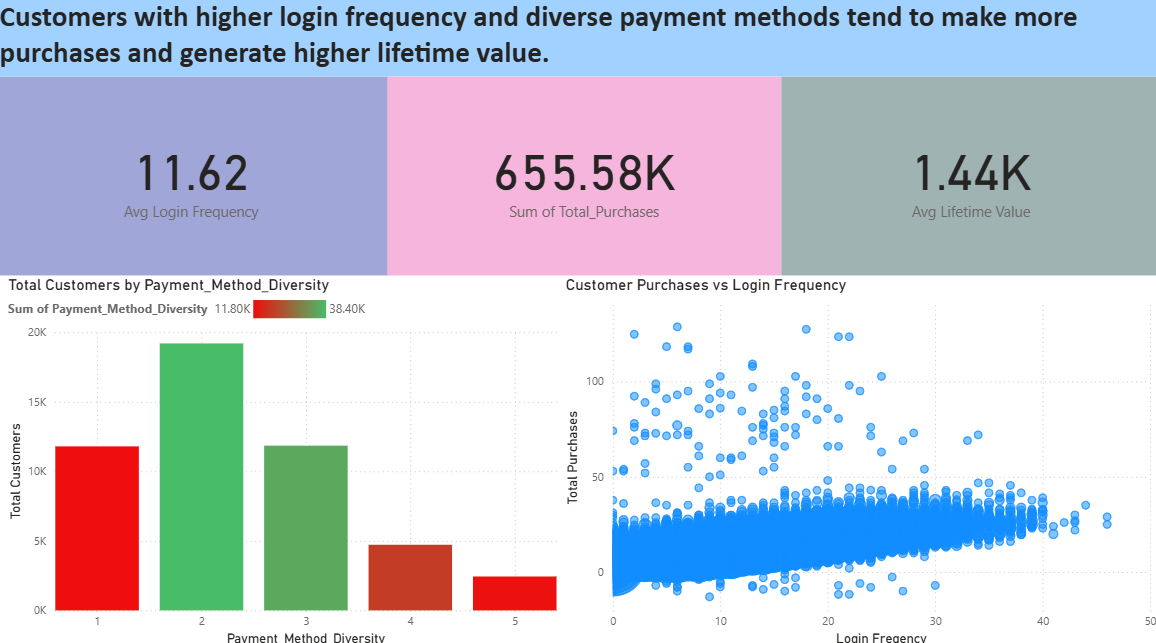

Layout of this report page (visuals, bound fields, positions):
{"tool":"powerbi","page":{"name":"Customer Behavior Analysis","canvas":[1280,720],"ordinal":2},"visuals":[{"type":"scatterChart","title":"Customer Purchases vs Login Frequency","fields":{"X":["Payment_Method_Diversity.Login_Frequency"],"Y":["Payment_Method_Diversity.Total_Purchases"],"Size":["CountNonNull(Payment_Method_Diversity.Lifetime_Value)"]},"box":[621.6,308.7,658.7,411.7],"z":0},{"type":"clusteredColumnChart","fields":{"Category":["Payment_Method_Diversity.Payment_Method_Diversity"],"Y":["Payment_Method_Diversity.Total Customers"]},"box":[9.6,308.7,612,411.7],"z":1000},{"type":"card","fields":{"Values":["Payment_Method_Diversity.Avg Login Frequency"]},"box":[0,90.6,430.9,218.2],"z":2000},{"type":"card","fields":{"Values":["Sum(Payment_Method_Diversity.Total_Purchases)"]},"box":[430.9,90.6,432.2,218.2],"z":3000},{"type":"card","fields":{"Values":["Payment_Method_Diversity.Avg Lifetime Value"]},"box":[863.1,90.6,417.2,218.2],"z":4000},{"type":"textbox","box":[0,0,1280.3,90.6],"z":5000}]}

Visuals, with their boxes in screenshot pixels (x1, y1, x2, y2), scaled from the page's 1280x720 canvas onto the 1156x643 screenshot:
"Customer Purchases vs Login Frequency" scatterChart: 561:276:1155:642
clusteredColumnChart - Payment_Method_Diversity.Payment_Method_Diversity x Payment_Method_Diversity.Total Customers: 9:276:561:642
card - Payment_Method_Diversity.Avg Login Frequency: 0:81:389:276
card - Sum(Payment_Method_Diversity.Total_Purchases): 389:81:779:276
card - Payment_Method_Diversity.Avg Lifetime Value: 779:81:1155:276
textbox: 0:0:1155:81
